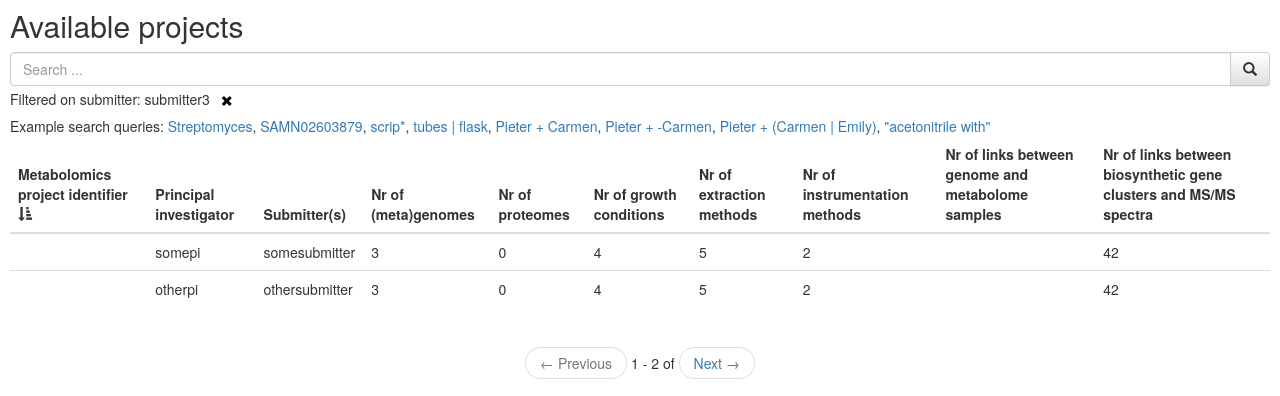
Test case: <Projects> › with 2 projects loaded › when filter is in url › when clear filter button is clicked › should have removed filter text
Click the button titled "Clear filter": (227, 101) [210,86,244,116]
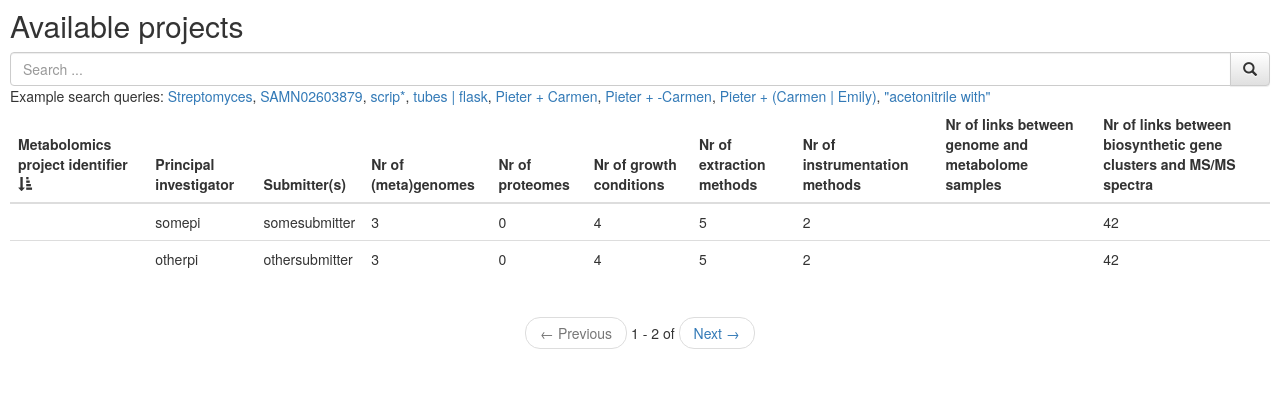
Check: the text "submitter3" is gone
